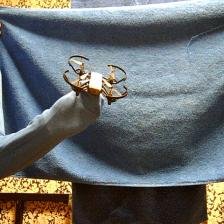drone: (64, 52, 130, 104)
